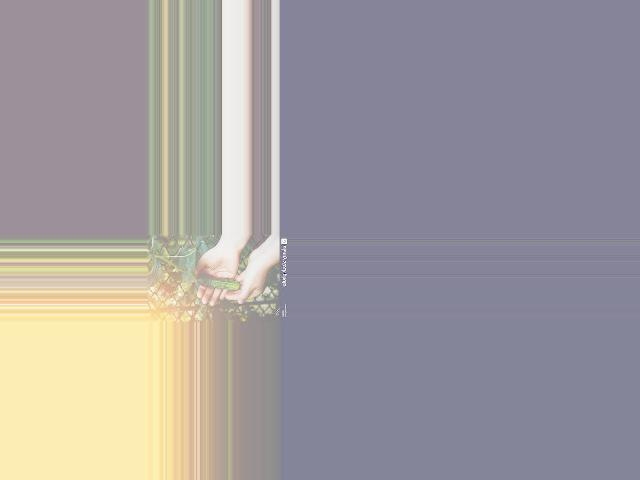cucumber: (196, 274, 240, 290)
